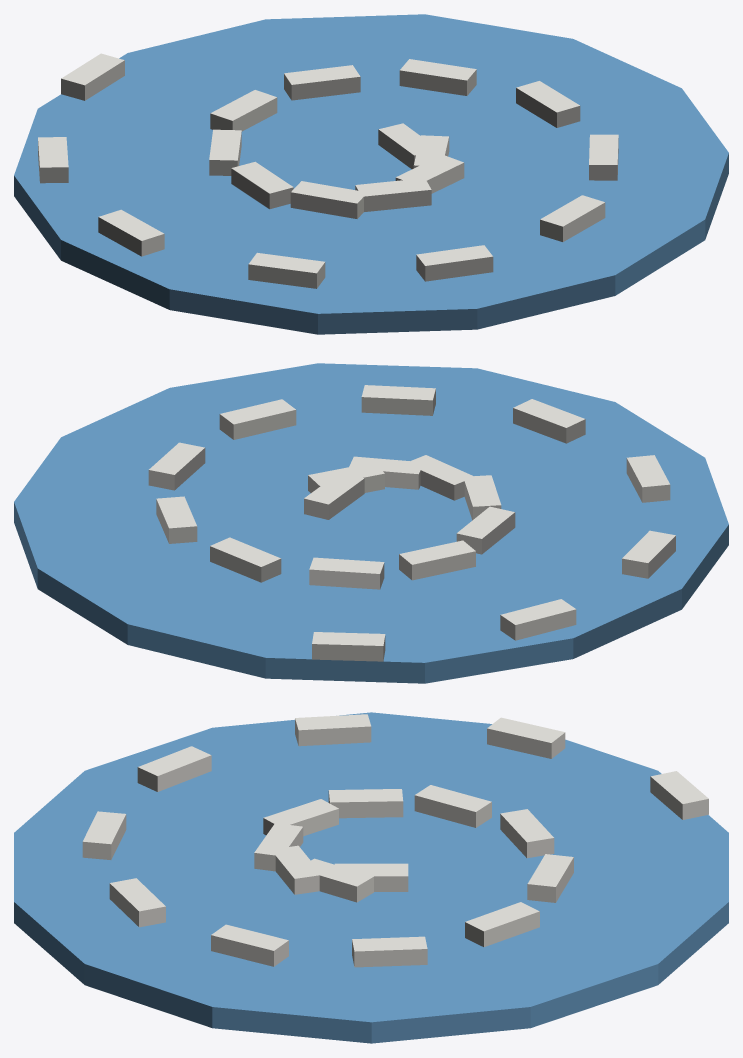
Rendered from Gag_Swirl.glb.
3 views of the same model, one above another, from view 1: azimuth 30°, elevation 25°; view 2: azimuth 150°, elevation 25°; view 3: azimuth 270°, elevation 25° (orthographic). The views are drawn at different scales.
Parts seen in each view (by area): view 1: Gag_Swirl; view 2: Gag_Swirl; view 3: Gag_Swirl.
Part boxes in pixels (left/top/right/bottom): Gag_Swirl: left=14, top=14, right=728, bottom=334; Gag_Swirl: left=14, top=363, right=728, bottom=683; Gag_Swirl: left=14, top=712, right=728, bottom=1043.
Bounding box in the file's own units: 50 × 2.8 × 48.75.
1 material, 1 textured.
